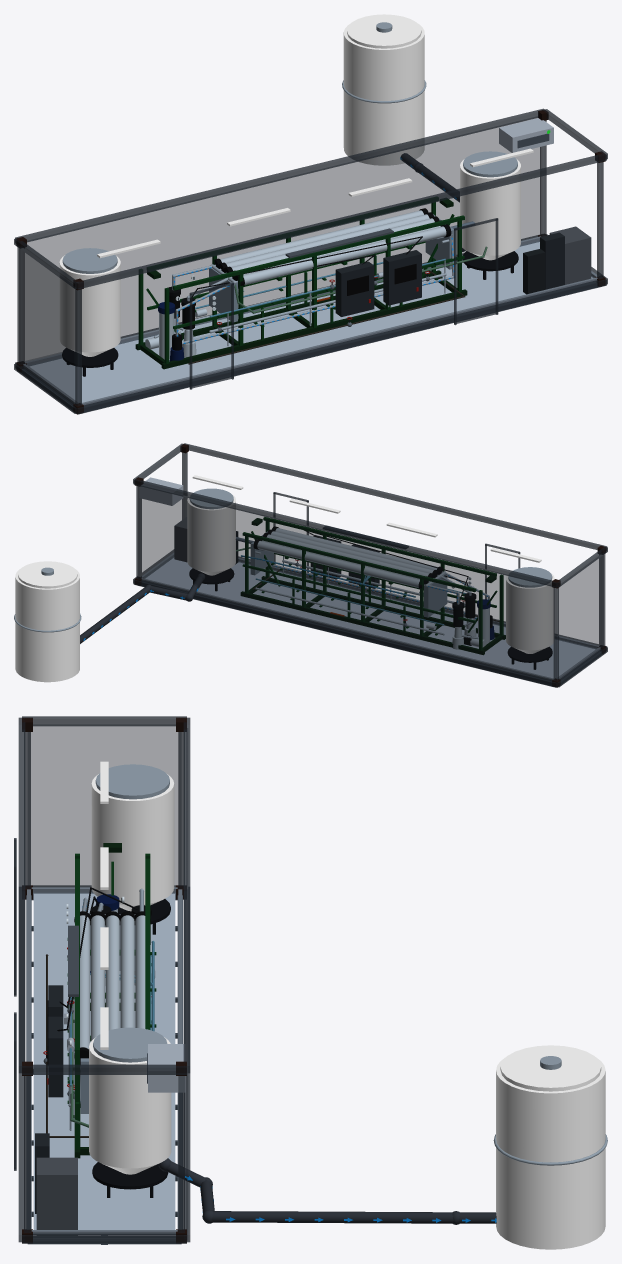
Rendered from OilTrap CCRO System 3D Asset NEW.obj.
The picture shows the model from 3 angles, top to bottom: view 1: azimuth 30°, elevation 25°; view 2: azimuth 150°, elevation 25°; view 3: azimuth 270°, elevation 25°; orthographic projection. The views are drawn at different scales.
Parts seen in each view (by area): view 1: object 1; view 2: object 1; view 3: object 1.
Boxes of the visible parts, x1,y1,x2,y2 form: object 1: (14, 14, 607, 414); object 1: (14, 443, 607, 687); object 1: (14, 716, 607, 1249).
Bounding box in the file's own units: 12.49 × 2.96 × 8.78.
